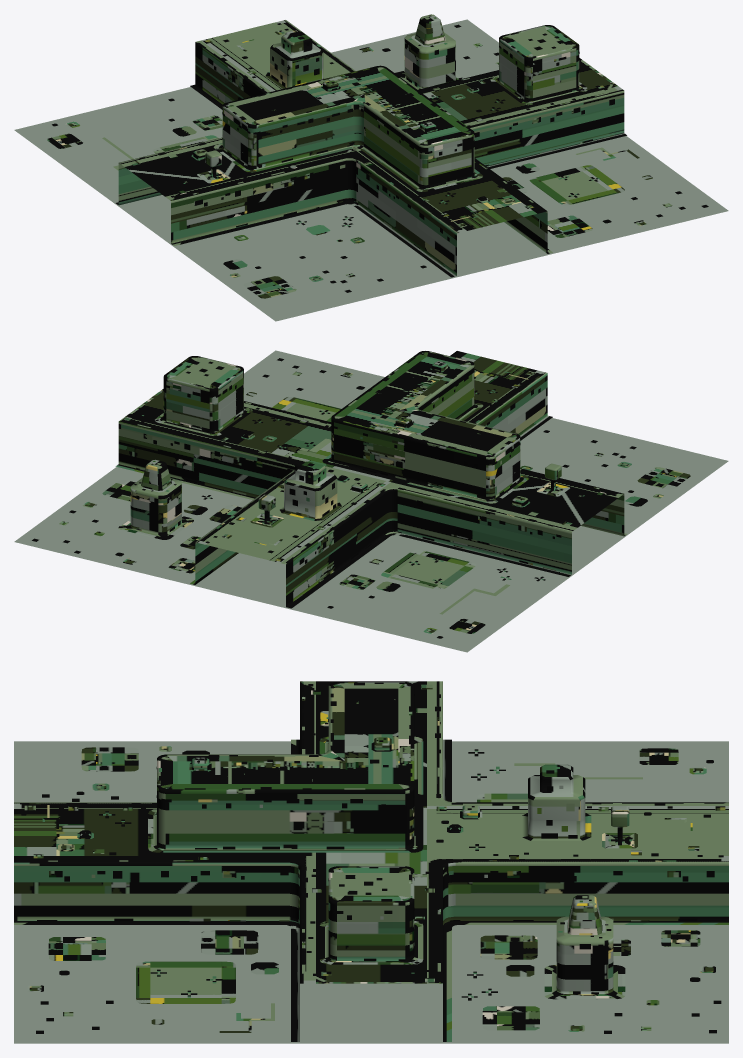
File: C_cave2_03.fbx
3 views of the same model, one above another, from view 1: azimuth 30°, elevation 25°; view 2: azimuth 150°, elevation 25°; view 3: azimuth 270°, elevation 25° (orthographic). The views are drawn at different scales.
Parts seen in each view (by area): view 1: C_cave2_03.001; view 2: C_cave2_03.001; view 3: C_cave2_03.001.
Boxes of the visible parts, x1=… form: C_cave2_03.001: x1=14, y1=14, x2=728, y2=321; C_cave2_03.001: x1=14, y1=350, x2=728, y2=652; C_cave2_03.001: x1=14, y1=681, x2=728, y2=1043.
Bounding box in the file's own units: 50 × 9.88 × 50.
Materials: 1 (1 with a texture image).
